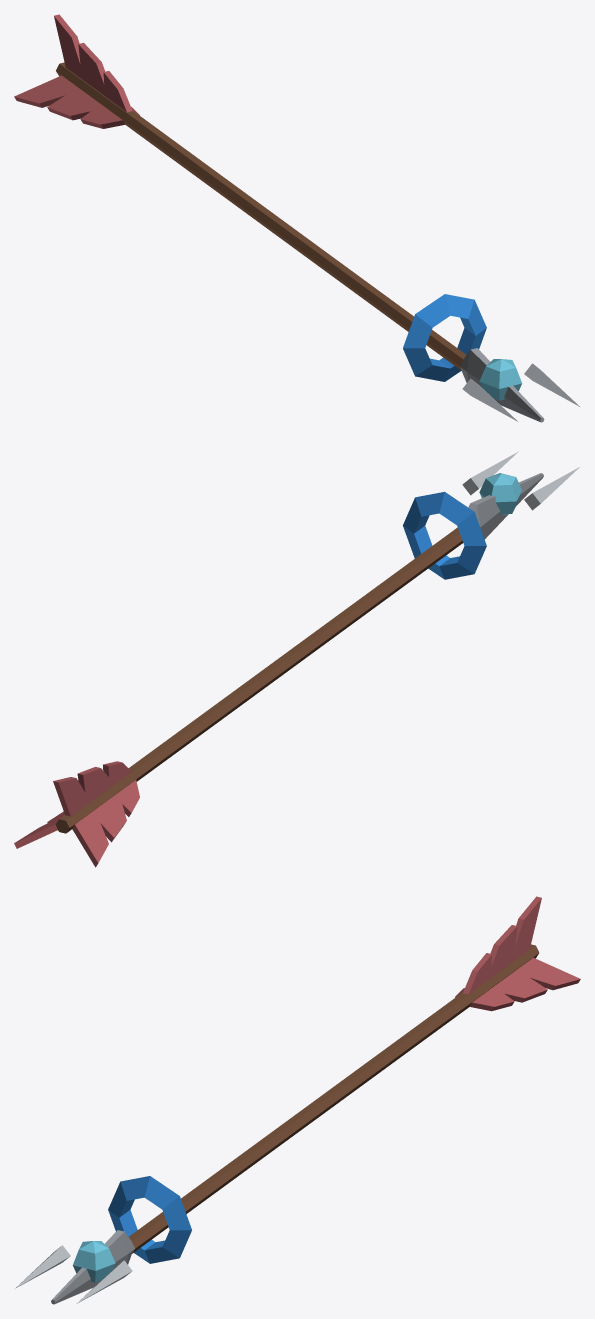
The model's file is arrow-electroshock.glb.
3 views of the same model, one above another, from view 1: azimuth 30°, elevation 25°; view 2: azimuth 150°, elevation 25°; view 3: azimuth 330°, elevation 25° (orthographic).
Parts seen in each view (by area): view 1: m; view 2: m; view 3: m.
Part boxes in pixels (x1,y1,x2,y2): m: (14,14,579,422); m: (14,451,579,867); m: (15,896,580,1304).
Bounding box in the file's own units: 0.0296 × 0.0295 × 0.3.
